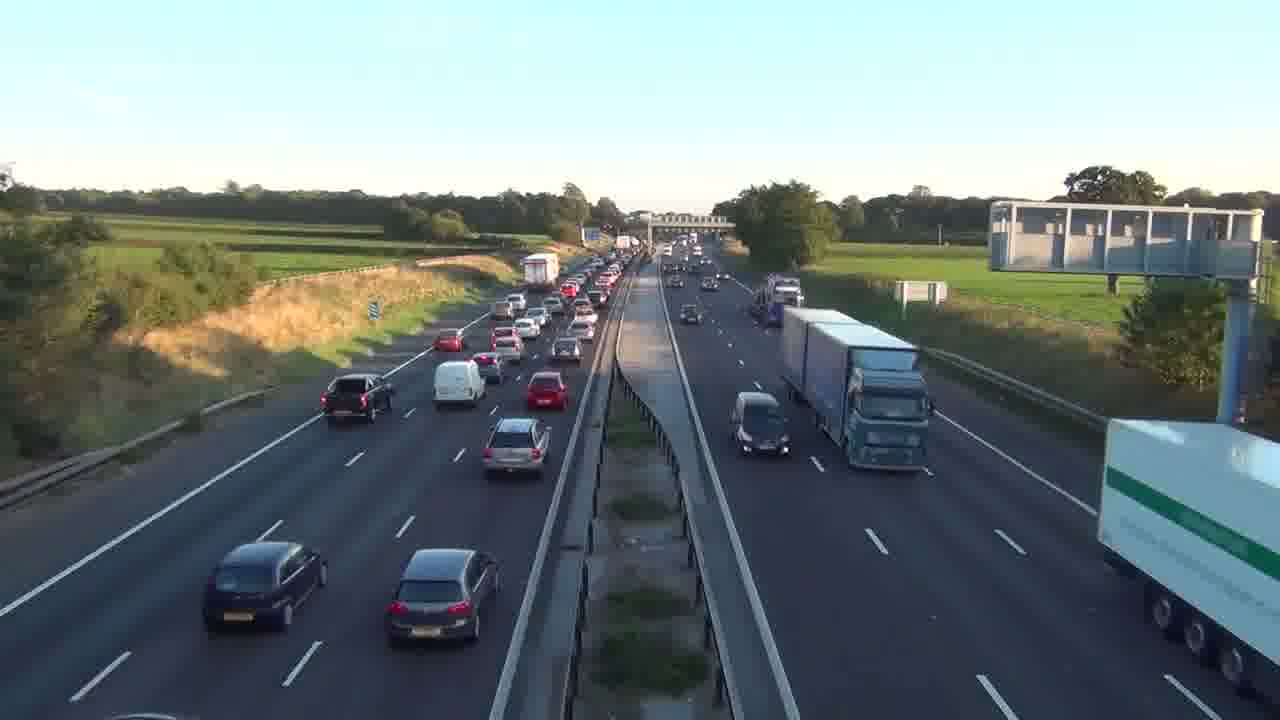car: (202, 538, 328, 634), (383, 546, 501, 648), (481, 415, 552, 478), (320, 374, 391, 423), (524, 371, 569, 411)
truck: (1095, 417, 1280, 702), (802, 317, 934, 475), (432, 359, 486, 409)
